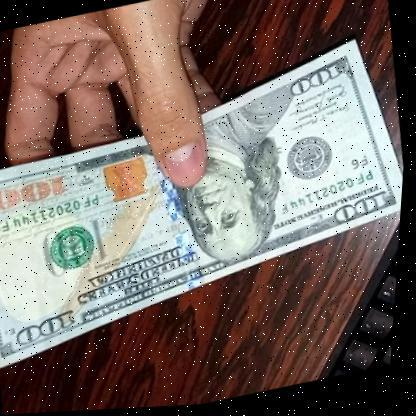one_hundred-front: (0, 33, 413, 359)
